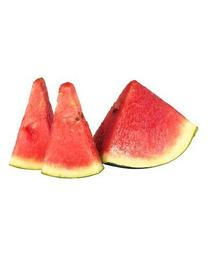watermelon: (8, 76, 199, 180)
